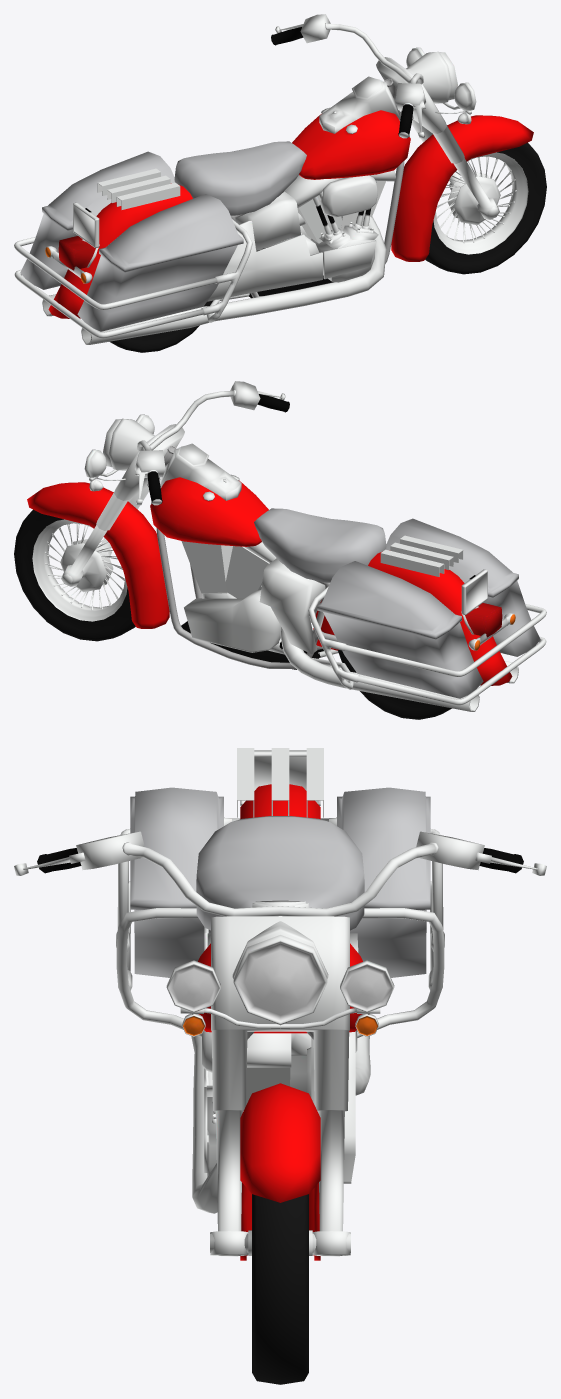
The picture shows the model from 3 angles, top to bottom: view 1: azimuth 30°, elevation 25°; view 2: azimuth 150°, elevation 25°; view 3: azimuth 270°, elevation 25°; orthographic projection. The views are drawn at different scales.
Parts seen in each view (by area): view 1: Bike_low; view 2: Bike_low; view 3: Bike_low.
Boxes of the visible parts, x1,y1,x2,y2 form: Bike_low: (14, 14, 546, 352); Bike_low: (14, 381, 546, 719); Bike_low: (14, 748, 546, 1384).
Size of the model in its own units: 2.74 by 1.31 by 1.43.
Materials: 1 (1 with a texture image).
